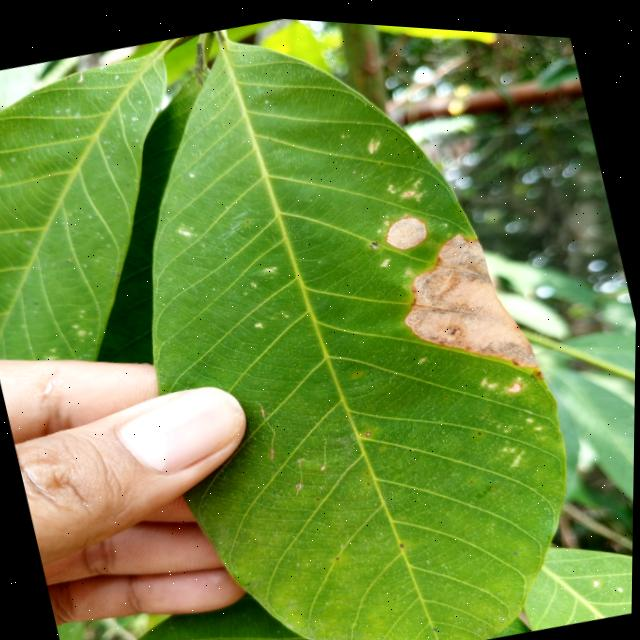Colletotrichum: (366, 424, 373, 432), (401, 538, 404, 541), (338, 552, 340, 554), (318, 493, 320, 495)
Leaf-Blight: (385, 210, 542, 389), (380, 205, 432, 249), (508, 372, 524, 387)
